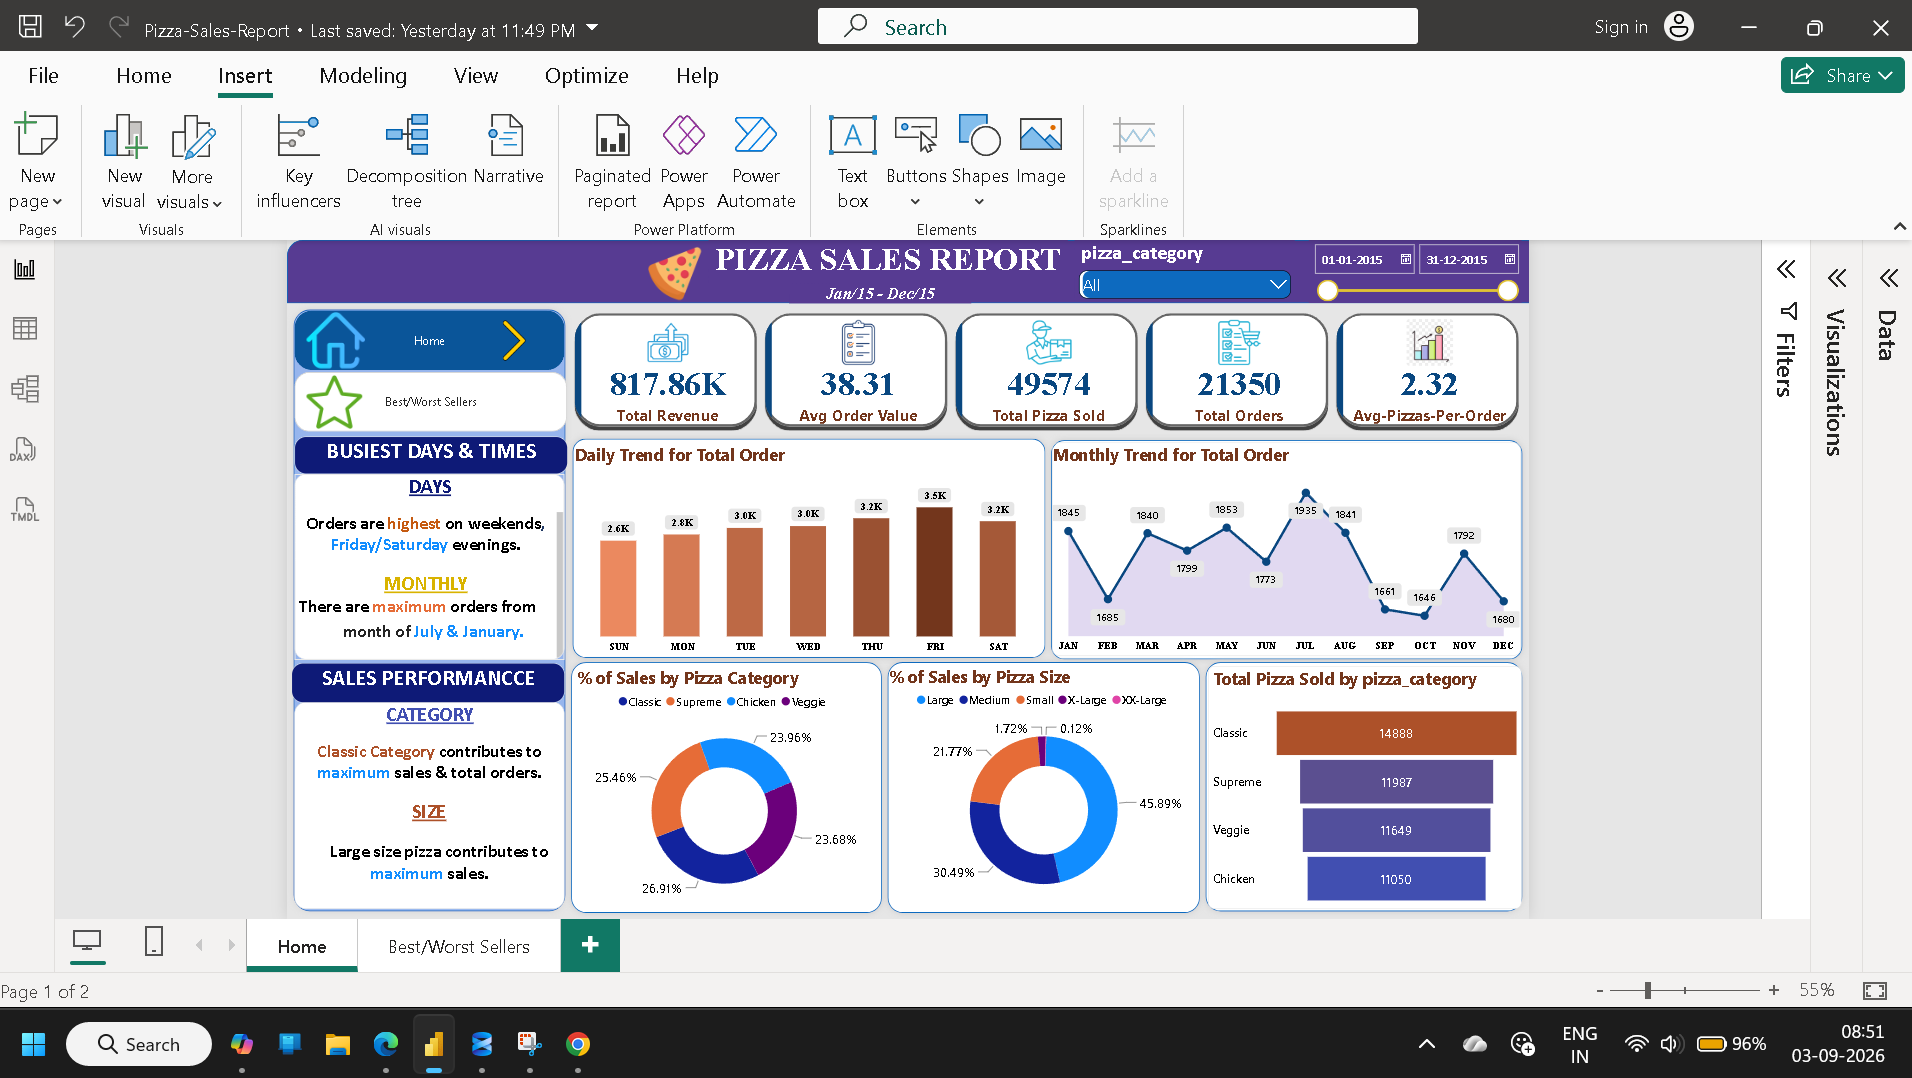

Layout of this report page (visuals, bound fields, positions):
{"tool":"powerbi","page":{"name":"Home","canvas":[1500,820],"ordinal":0},"visuals":[{"type":"shape","box":[0,76.1,344.2,742.7],"z":1000},{"type":"cardVisual","fields":{"Data":["pizza_sales.Total Revenue","pizza_sales.Avg Order Value","pizza_sales.Total Pizza Sold","pizza_sales.Total Orders","pizza_sales.Avg Pizzas Per Order"]},"box":[335.1,76.1,1164.8,161.2],"z":2000},{"type":"shape","box":[0,0,2560.9,76.3],"z":3000},{"type":"textbox","title":"PIZZA SALES REPORT","box":[509,0,434.2,52.5],"z":4000},{"type":"textbox","title":"Jan/15 - Dec/15 ","box":[606.9,52.5,219.5,23.9],"z":5000},{"type":"image","box":[427.5,7.2,81.1,66.8],"z":5500},{"type":"shape","box":[336.9,231.9,587,280.8],"z":6000},{"type":"columnChart","title":"Daily Trend for Total Order","fields":{"Category":["pizza_sales.Order Day"],"Y":["pizza_sales.Total Orders"]},"box":[348,244.6,565.2,257.2],"z":7000},{"type":"shape","box":[1619.2,375.4,941.6,505.8],"z":8000},{"type":"areaChart","title":"Monthly Trend for Total Orders","fields":{"Category":["pizza_sales.Order Month"],"Y":["pizza_sales.Total Orders"]},"box":[1644.7,397.7,890.7,461.3],"z":9000},{"type":"shape","box":[677.6,884.4,658.5,556.7],"z":10000},{"type":"shape","box":[1931,881.2,629.9,559.9],"z":11000},{"type":"shape","box":[1336.1,884.4,594.9,556.7],"z":12000},{"type":"donutChart","fields":{"Category":["pizza_sales.pizza_category"],"Y":["pizza_sales.Total Revenue"]},"box":[699.9,906.6,614,512.2],"z":13000},{"type":"shape","box":[914.8,233.7,585.1,280.8],"z":14000},{"type":"areaChart","title":"Monthly Trend for Total Order","fields":{"Category":["pizza_sales.Order Month"],"Y":["pizza_sales.Total Orders"]},"box":[924,244.6,566,257.2],"z":15000},{"type":"shape","box":[717.4,501.8,393.1,318.8],"z":16000},{"type":"shape","box":[1101.4,501.8,398.5,317],"z":17000},{"type":"shape","box":[335.1,501.8,391.3,318.8],"z":18000},{"type":"donutChart","title":"% of Sales by Pizza Category","fields":{"Category":["pizza_sales.pizza_category"],"Y":["pizza_sales.Total Revenue"]},"box":[349.6,514.5,356.9,293.5],"z":19000},{"type":"textbox","title":"DAYS","box":[9.1,283,326.1,224],"z":20000},{"type":"donutChart","title":"% of Sales by Pizza Size","fields":{"Category":["pizza_sales.pizza_size"],"Y":["pizza_sales.Total Revenue"]},"box":[726.4,512.7,375,295.3],"z":21000},{"type":"funnel","fields":{"Category":["pizza_sales.pizza_category"],"Y":["pizza_sales.Total Pizza Sold"]},"box":[1112.3,514.5,378.6,293.5],"z":22000},{"type":"textbox","title":"BUSIEST DAYS & TIMES","box":[9.1,237.3,329.7,45.3],"z":23000},{"type":"textbox","title":"CATEGORY","box":[9.1,558,326.1,250],"z":24000},{"type":"textbox","title":"SALES PERFORMANCCE","box":[5.4,511,329.7,48],"z":25000},{"type":"slicer","fields":{"Values":["pizza_sales.pizza_category"]},"box":[951.1,0,266.3,74.3],"z":26000},{"type":"slicer","fields":{"Values":["pizza_sales.order_date"]},"box":[1233.7,0,257.2,76.1],"z":26001},{"type":"pageNavigator","box":[9.1,85.1,326.1,72.5],"z":26002},{"type":"pageNavigator","box":[9.1,159.4,329.7,72.5],"z":26003},{"type":"image","box":[250,85.1,48.9,72.5],"z":26004},{"type":"image","box":[23.5,159.4,67,72.5],"z":26005},{"type":"image","box":[23.5,85.1,70.6,72.5],"z":26006}]}

Visuals, with their boxes on the page's 1500x820 design canvas (x1, y1, x2, y2). These are canvas units, not pixel positions in the 1912x1078 screenshot, which may show the page scaled, cropped or inside an application window:
shape: l=0, t=76, r=344, b=819
cardVisual - pizza_sales.Total Revenue x pizza_sales.Avg Order Value: l=335, t=76, r=1500, b=237
shape: l=0, t=0, r=2561, b=76
"PIZZA SALES REPORT" textbox: l=509, t=0, r=943, b=52
"Jan/15 - Dec/15 " textbox: l=607, t=52, r=826, b=76
image: l=428, t=7, r=509, b=74
shape: l=337, t=232, r=924, b=513
"Daily Trend for Total Order" columnChart: l=348, t=245, r=913, b=502
shape: l=1619, t=375, r=2561, b=881
"Monthly Trend for Total Orders" areaChart: l=1645, t=398, r=2535, b=859
shape: l=678, t=884, r=1336, b=1441
shape: l=1931, t=881, r=2561, b=1441
shape: l=1336, t=884, r=1931, b=1441
donutChart - pizza_sales.pizza_category x pizza_sales.Total Revenue: l=700, t=907, r=1314, b=1419
shape: l=915, t=234, r=1500, b=514
"Monthly Trend for Total Order" areaChart: l=924, t=245, r=1490, b=502
shape: l=717, t=502, r=1110, b=821
shape: l=1101, t=502, r=1500, b=819
shape: l=335, t=502, r=726, b=821
"% of Sales by Pizza Category" donutChart: l=350, t=514, r=706, b=808
"DAYS" textbox: l=9, t=283, r=335, b=507
"% of Sales by Pizza Size" donutChart: l=726, t=513, r=1101, b=808
funnel - pizza_sales.pizza_category x pizza_sales.Total Pizza Sold: l=1112, t=514, r=1491, b=808
"BUSIEST DAYS & TIMES" textbox: l=9, t=237, r=339, b=283
"CATEGORY" textbox: l=9, t=558, r=335, b=808
"SALES PERFORMANCCE" textbox: l=5, t=511, r=335, b=559
slicer - pizza_sales.pizza_category: l=951, t=0, r=1217, b=74
slicer - pizza_sales.order_date: l=1234, t=0, r=1491, b=76
pageNavigator: l=9, t=85, r=335, b=158
pageNavigator: l=9, t=159, r=339, b=232
image: l=250, t=85, r=299, b=158
image: l=24, t=159, r=90, b=232
image: l=24, t=85, r=94, b=158
